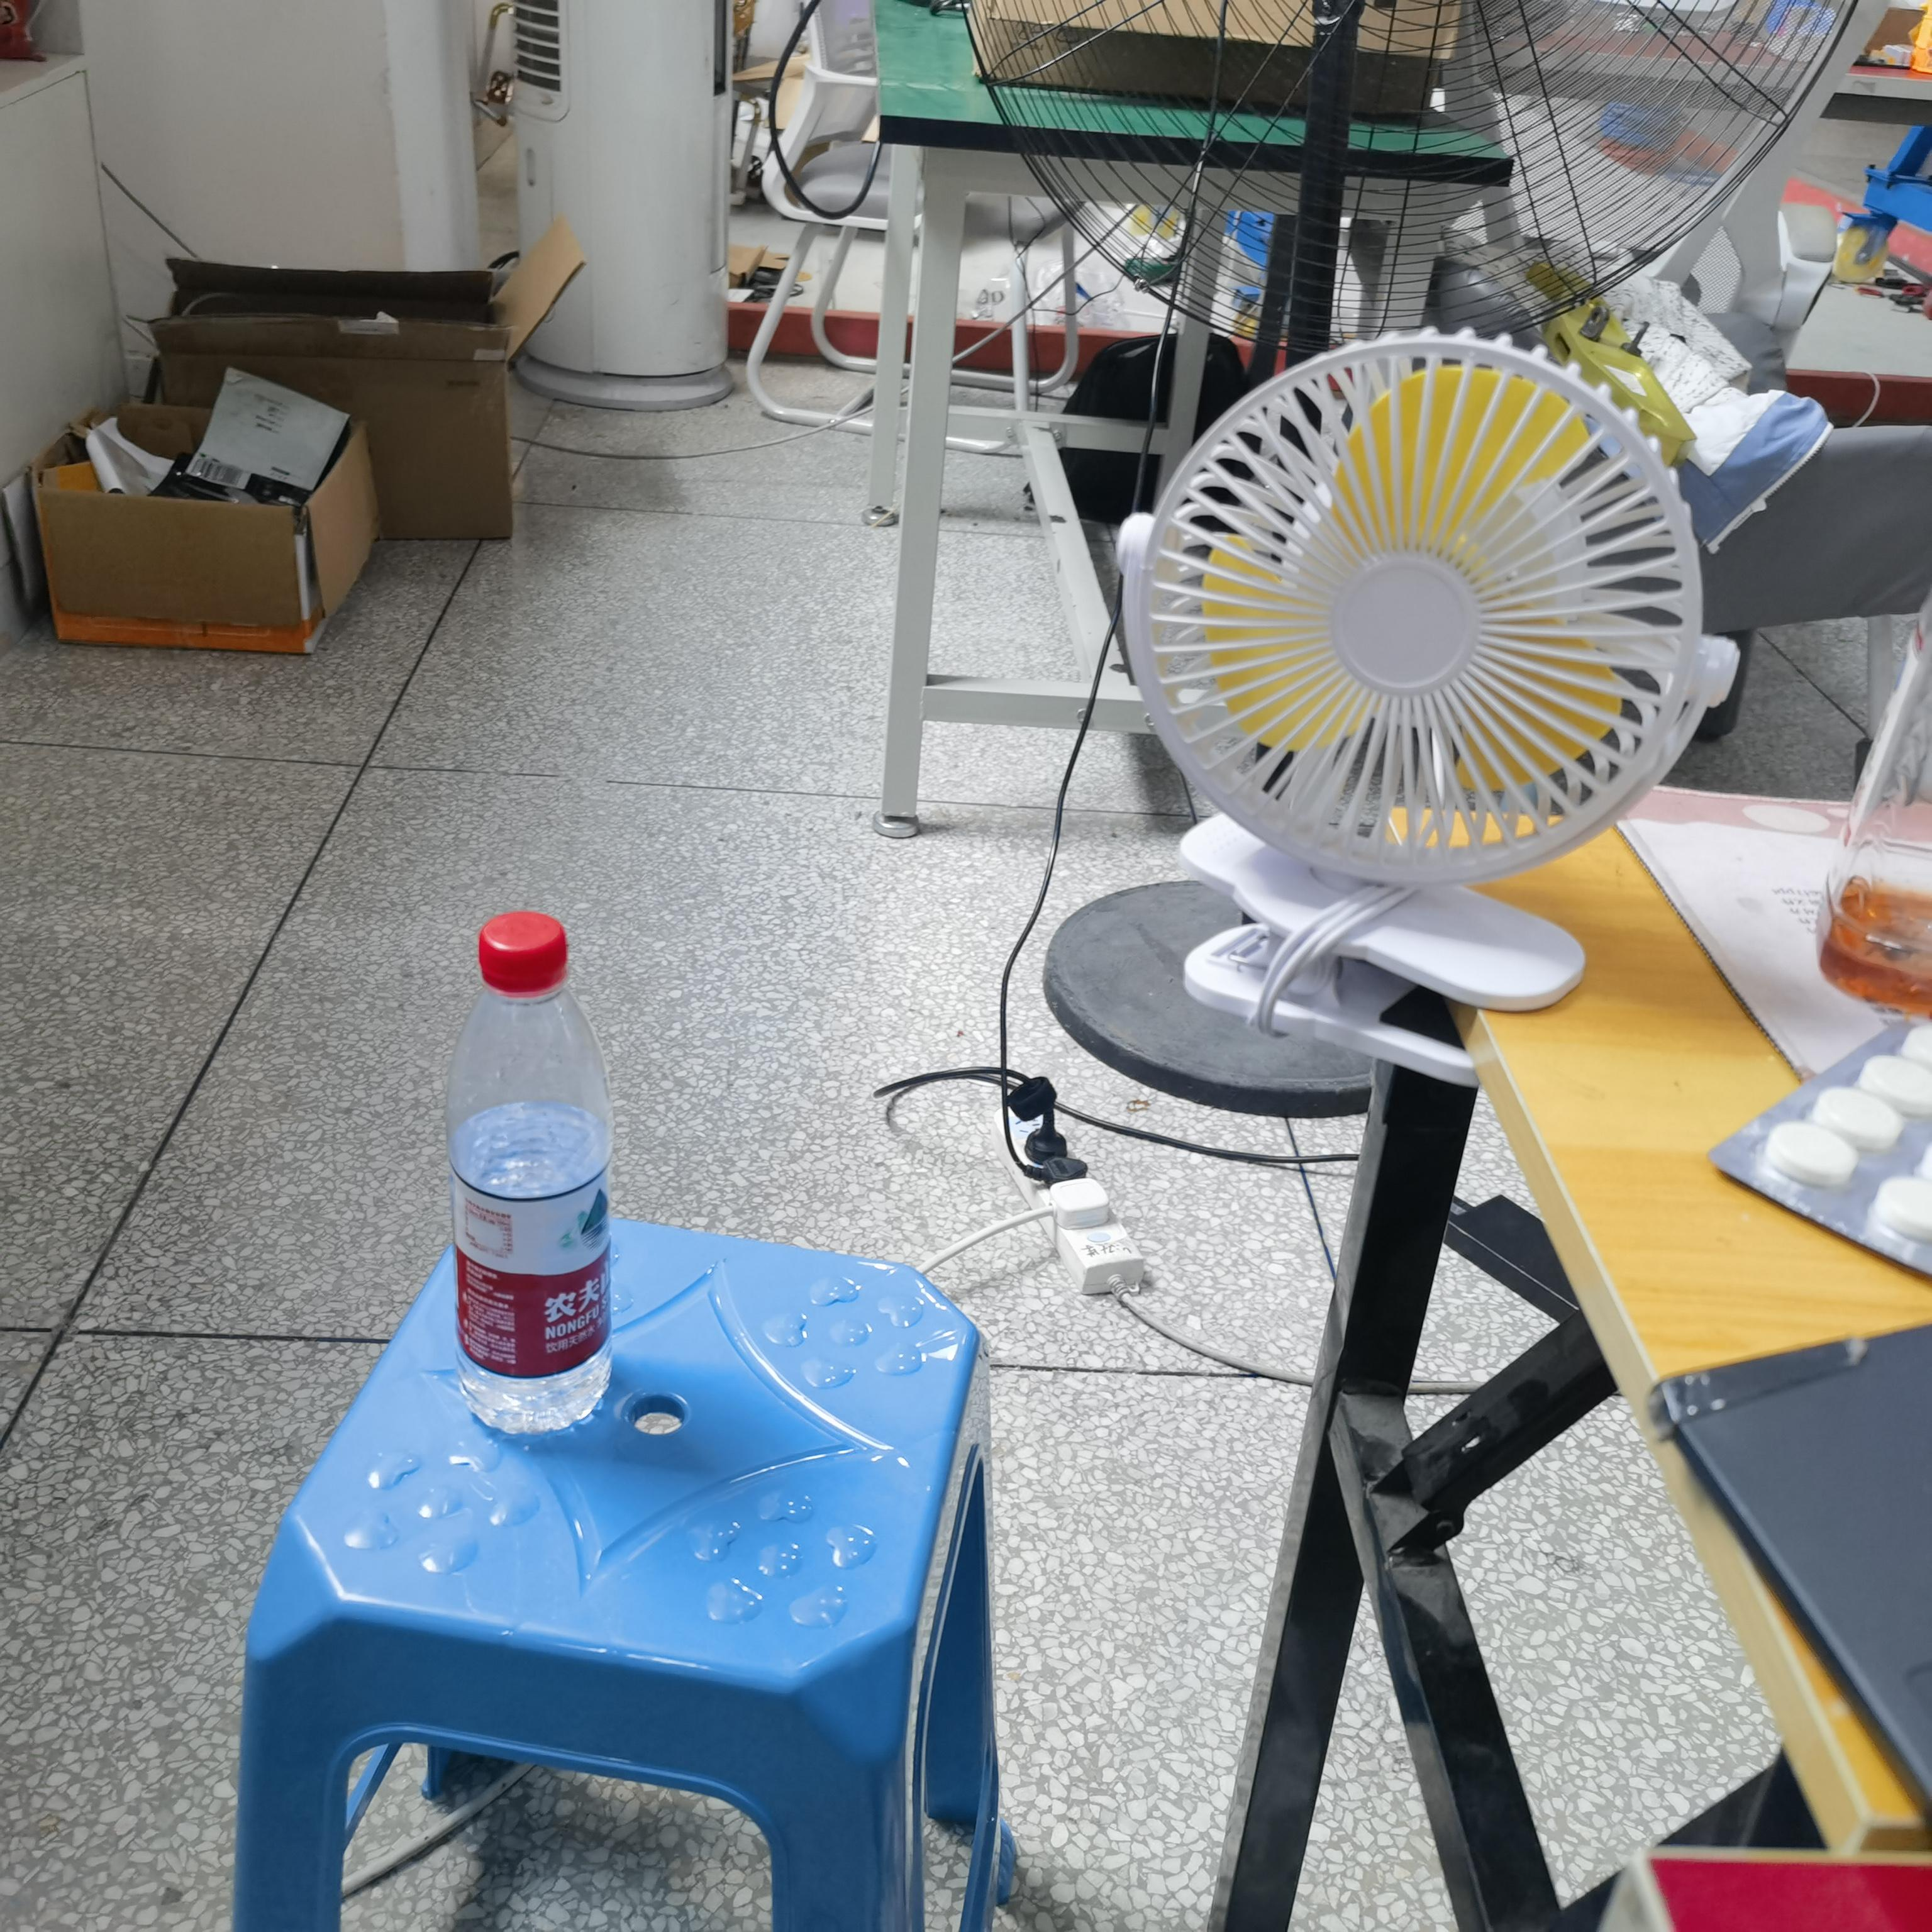bottle: (446, 906, 623, 1449)
fan: (1108, 318, 1750, 1106)
